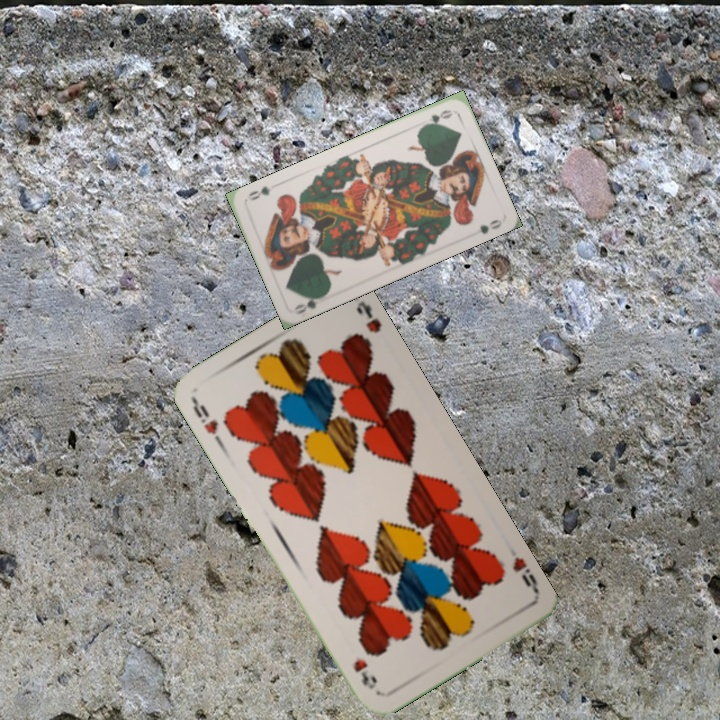GO: (291, 288, 331, 316), (418, 105, 455, 130)
H9: (508, 553, 542, 596), (188, 395, 221, 437)
